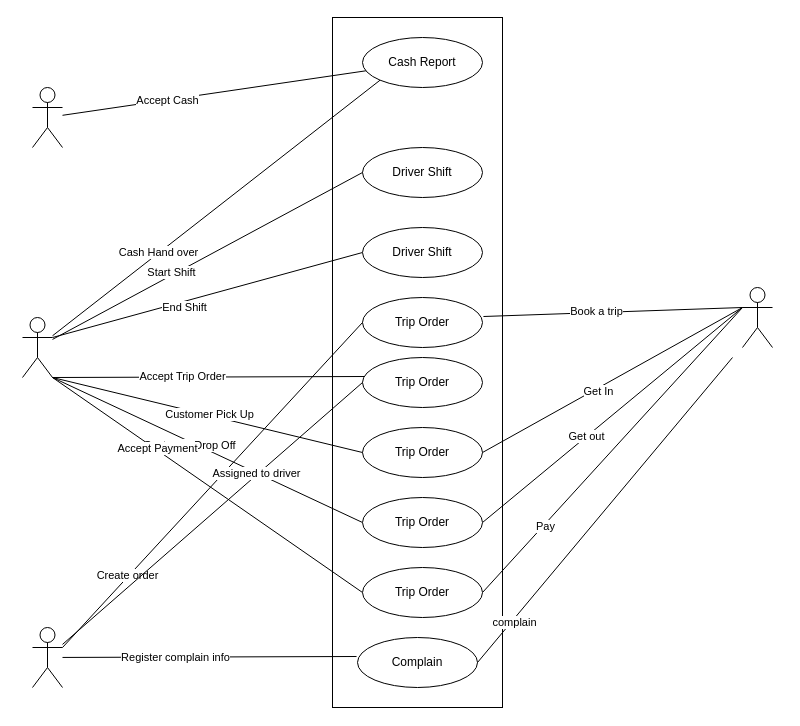
This 800x726 diagram has some shape labels left out. The shapes that lost their labels are listed below. From the top down, each one's centre as x and y in pixels, then its label:
At (47,117): "Accountant".
At (757,317): "Customer".
At (37,347): "Driver".
At (47,657): "Operator".
